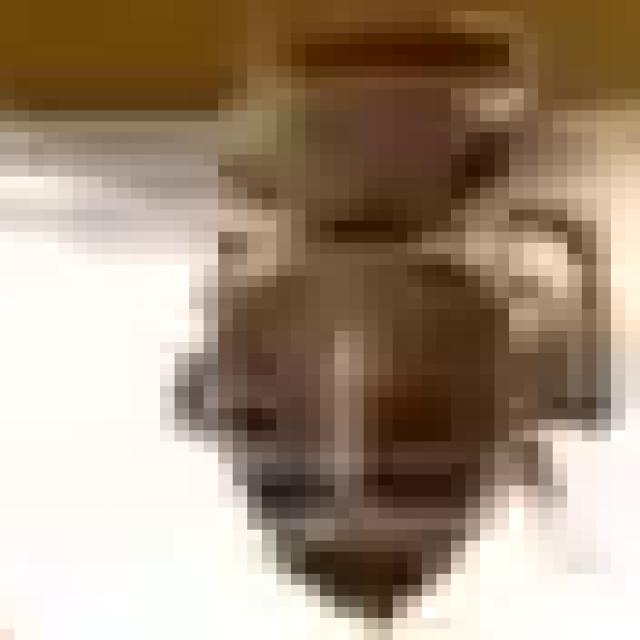honeybee: (206, 37, 590, 618)
